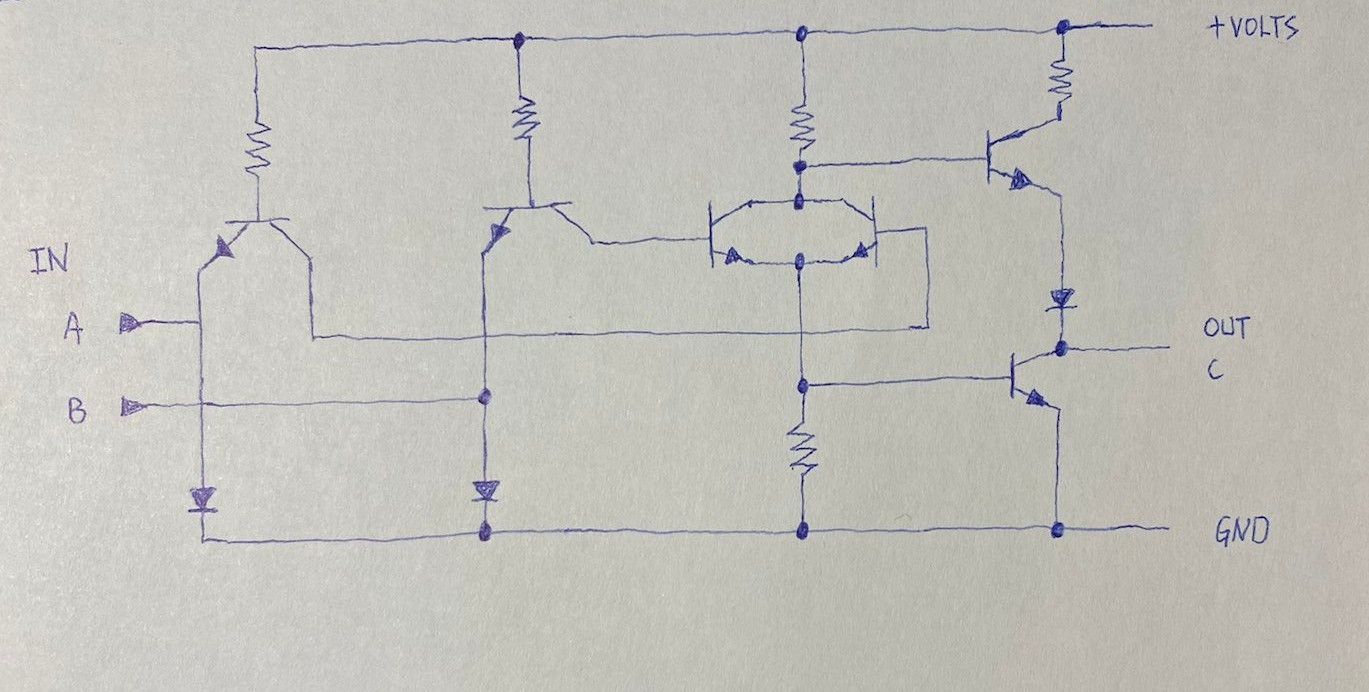diode: (179, 479, 231, 519), (1041, 279, 1085, 319), (464, 472, 505, 508)
junction: (789, 364, 834, 407), (471, 515, 509, 552), (785, 512, 820, 552), (499, 26, 543, 57), (781, 245, 819, 279), (1041, 511, 1075, 547), (185, 390, 226, 419), (1044, 335, 1080, 368), (785, 19, 823, 49), (467, 381, 505, 411), (907, 309, 940, 340), (297, 324, 333, 351), (785, 314, 815, 346), (185, 526, 220, 553), (246, 34, 276, 64), (466, 323, 499, 350), (1048, 13, 1077, 41), (913, 217, 941, 244), (787, 189, 816, 215), (785, 155, 814, 177), (186, 310, 208, 333)
resistor: (776, 416, 823, 484), (240, 112, 281, 184), (506, 88, 544, 157), (783, 96, 823, 152), (1042, 52, 1080, 106)
terminal: (113, 306, 162, 340), (113, 390, 164, 422), (1144, 514, 1196, 543), (1142, 333, 1192, 361), (1125, 11, 1168, 35)
text: (1208, 510, 1277, 552), (1229, 7, 1305, 43), (22, 234, 74, 283), (1201, 310, 1256, 344), (58, 308, 87, 351), (59, 391, 90, 431), (1200, 354, 1229, 384), (1202, 11, 1226, 42)
transistor: (189, 210, 320, 277), (470, 196, 599, 259), (978, 116, 1055, 201), (698, 193, 771, 272), (832, 187, 890, 275), (991, 345, 1052, 415)
